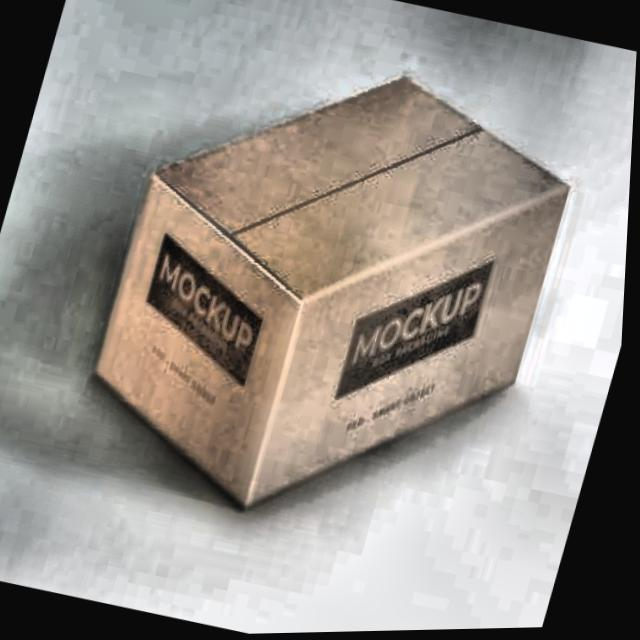Cardbox: (33, 0, 625, 589)
